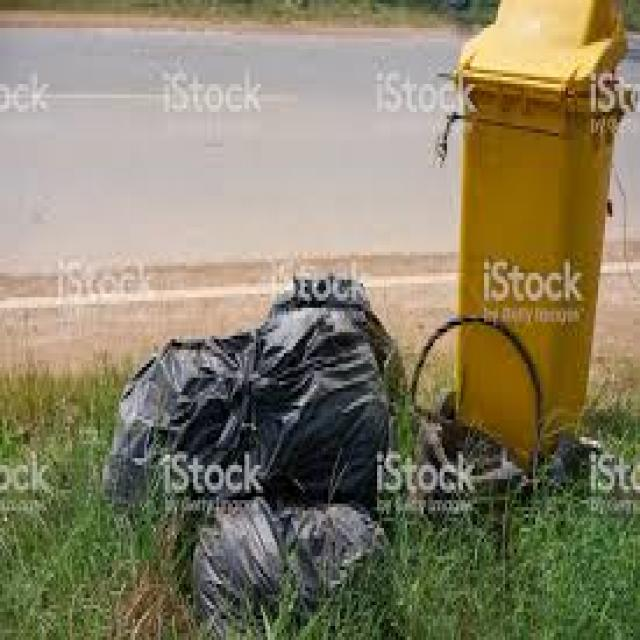plastic_bag: (236, 330, 378, 459), (128, 352, 244, 499), (208, 498, 367, 603)
